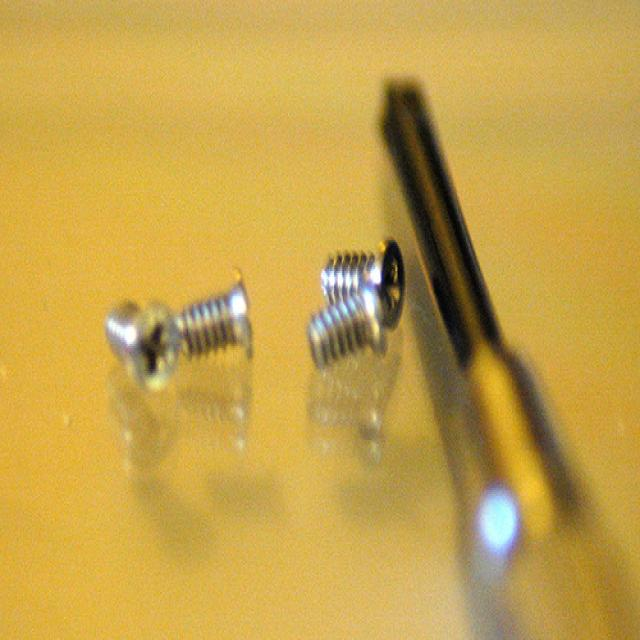screw: (106, 278, 252, 388), (308, 240, 404, 367)
